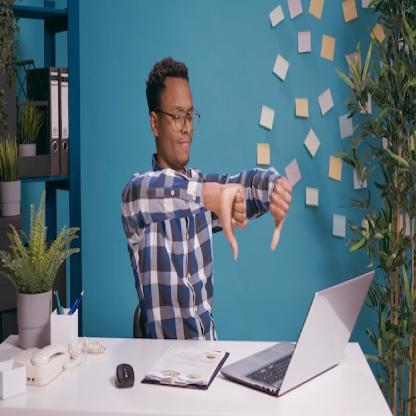thumb_down: (265, 168, 295, 258), (219, 175, 250, 262)
